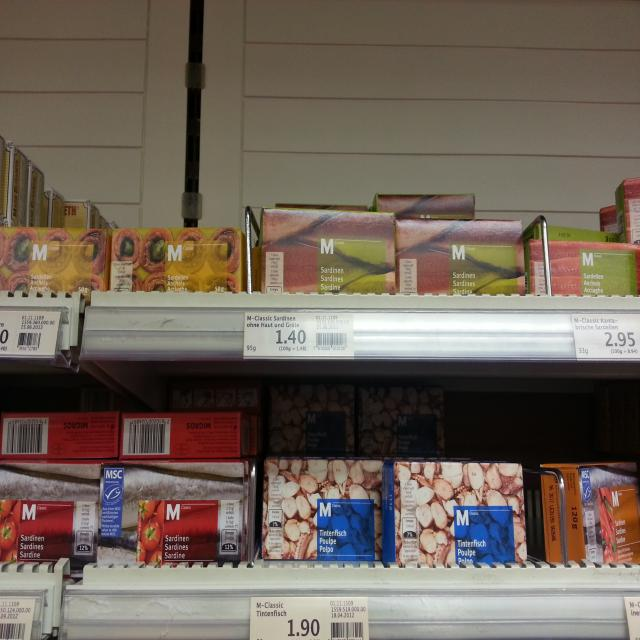Canned: (97, 463, 255, 569), (395, 462, 531, 571), (263, 462, 385, 566), (539, 462, 640, 569), (261, 213, 396, 292), (401, 217, 529, 297), (114, 224, 249, 294), (0, 473, 97, 563), (526, 232, 640, 301), (0, 227, 111, 297)
